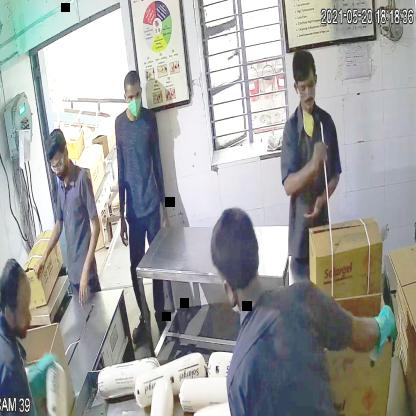goggles: (290, 80, 320, 98), (48, 157, 65, 173)
no_goggles: (123, 91, 143, 104)
